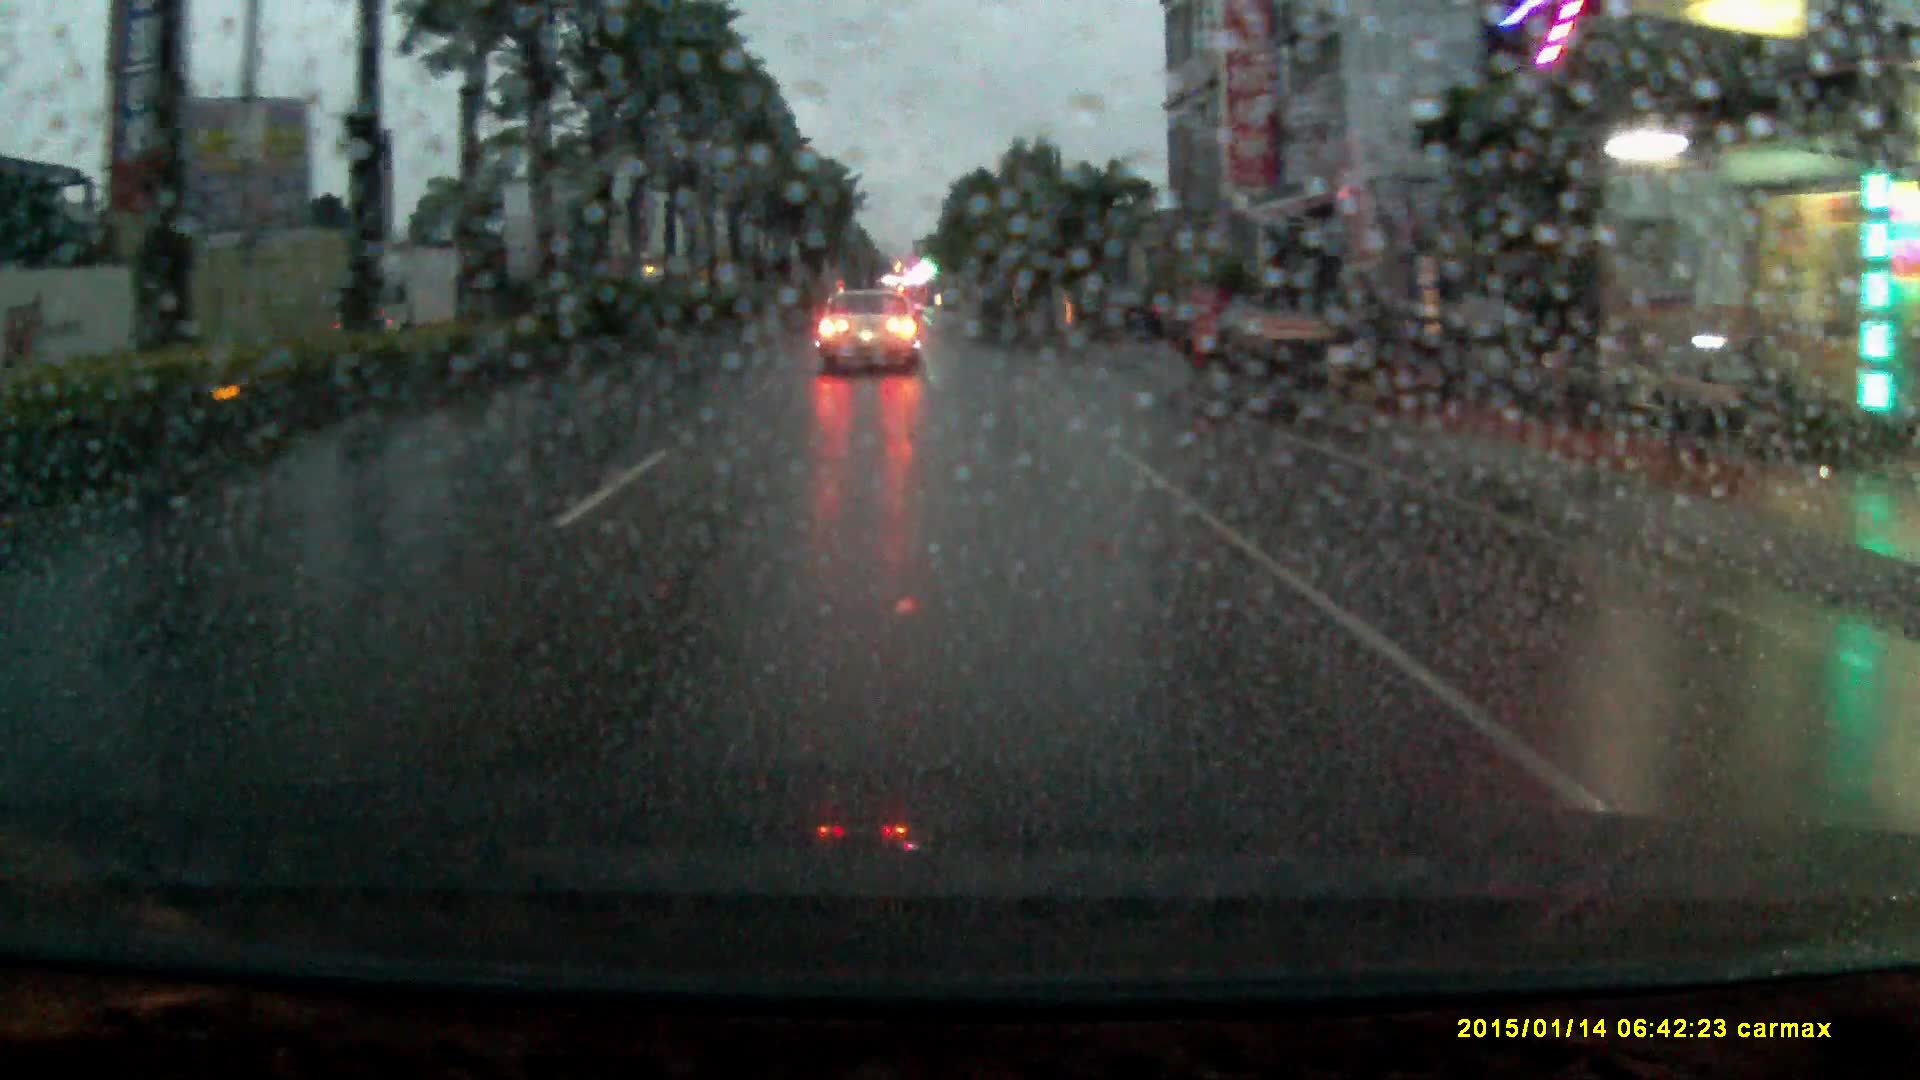vehicle: (323, 244, 479, 328), (819, 285, 920, 377), (1084, 287, 1164, 342)
